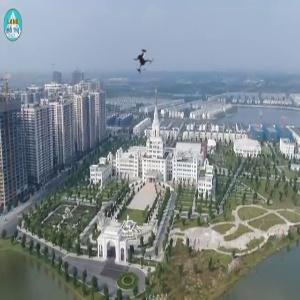drone: (121, 39, 168, 86)
